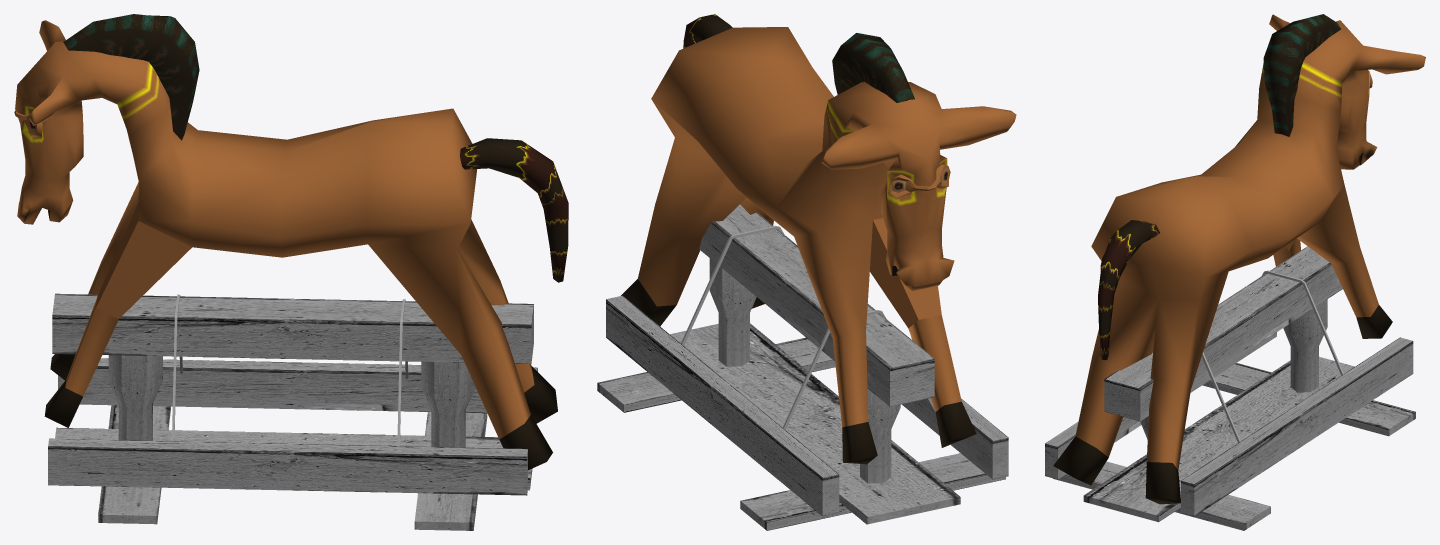
The model's file is RockingHorse.fbx.
3 views of the same model, side by side, from view 1: azimuth 30°, elevation 25°; view 2: azimuth 150°, elevation 25°; view 3: azimuth 270°, elevation 25° (orthographic). The views are drawn at different scales.
Parts seen in each view (by area): view 1: polySurface366, polySurface310; view 2: polySurface366, polySurface310, pCube75, pCube74; view 3: polySurface366, polySurface310, pCube74.
Part boxes in pixels (bbox=[...]): polySurface366: bbox=[14, 14, 568, 470]; polySurface310: bbox=[48, 293, 537, 530]; polySurface366: bbox=[621, 14, 1016, 464]; polySurface310: bbox=[597, 204, 1008, 530]; pCube75: bbox=[681, 225, 784, 345]; pCube74: bbox=[782, 310, 935, 429]; polySurface366: bbox=[1053, 14, 1425, 504]; polySurface310: bbox=[1045, 246, 1415, 530]; pCube74: bbox=[1262, 270, 1343, 375].
Bounding box in the file's own units: 2.39 × 2.22 × 2.01.
